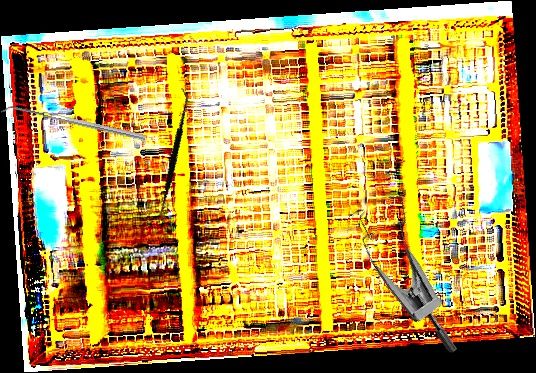Spatula Surgical: (119, 87, 227, 224), (1, 102, 146, 146)
Speculum: (325, 178, 508, 357)
